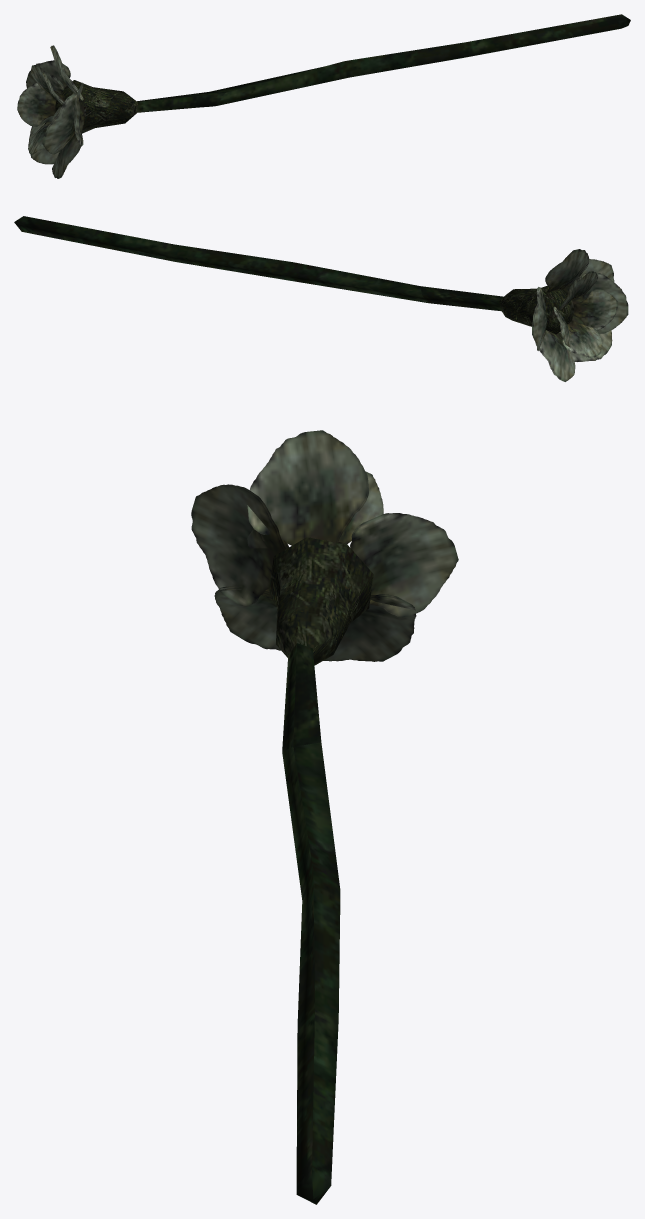
File: rotten_flower.dae
3 renders of one model, top to bottom at view 1: azimuth 30°, elevation 25°; view 2: azimuth 150°, elevation 25°; view 3: azimuth 270°, elevation 25°, orthographic. The views are drawn at different scales.
Visible parts, largest first — view 1: orchid_mesh37, polySurface15, polySurface16; view 2: orchid_mesh37, polySurface15, polySurface16; view 3: polySurface15, orchid_mesh37, polySurface16.
Boxes of the visible parts, x1,y1,x2,y2 form: orchid_mesh37: (137, 14, 630, 112); polySurface15: (17, 45, 85, 178); polySurface16: (55, 80, 137, 133); orchid_mesh37: (14, 216, 503, 311); polySurface15: (532, 249, 628, 381); polySurface16: (499, 285, 574, 334); polySurface15: (191, 430, 458, 661); orchid_mesh37: (282, 643, 340, 1204); polySurface16: (269, 537, 373, 665).
Size of the model in its own units: 0.781 by 0.1759 by 0.1728.
